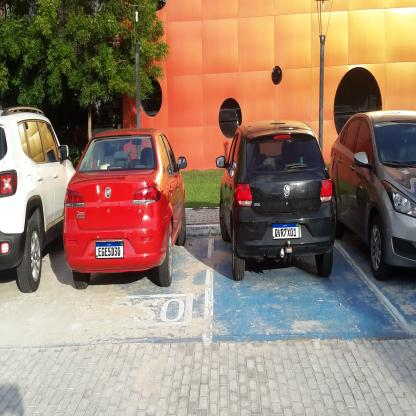PlacaM: (95, 241, 124, 259), (272, 222, 299, 240)
